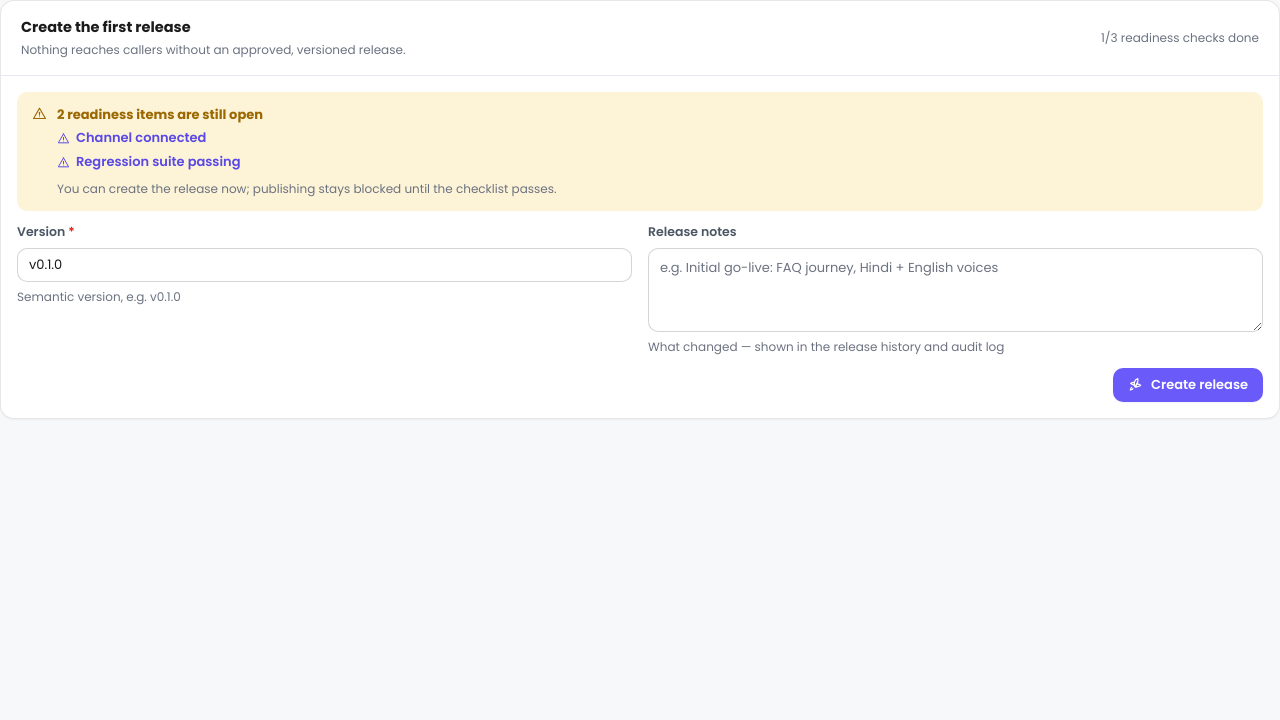
Test: PublishTab — release creation › posts the release and reloads
The width and height of the screenshot is (1280, 720).
expect the text "Create the first release" is shown: met, box [21,17,191,37]
In the text box with placeholder "e.g. Initial go-live: FAQ journey, Hindi + English voices": (956, 290) [648,248,1263,332], type "Go-live pilot"
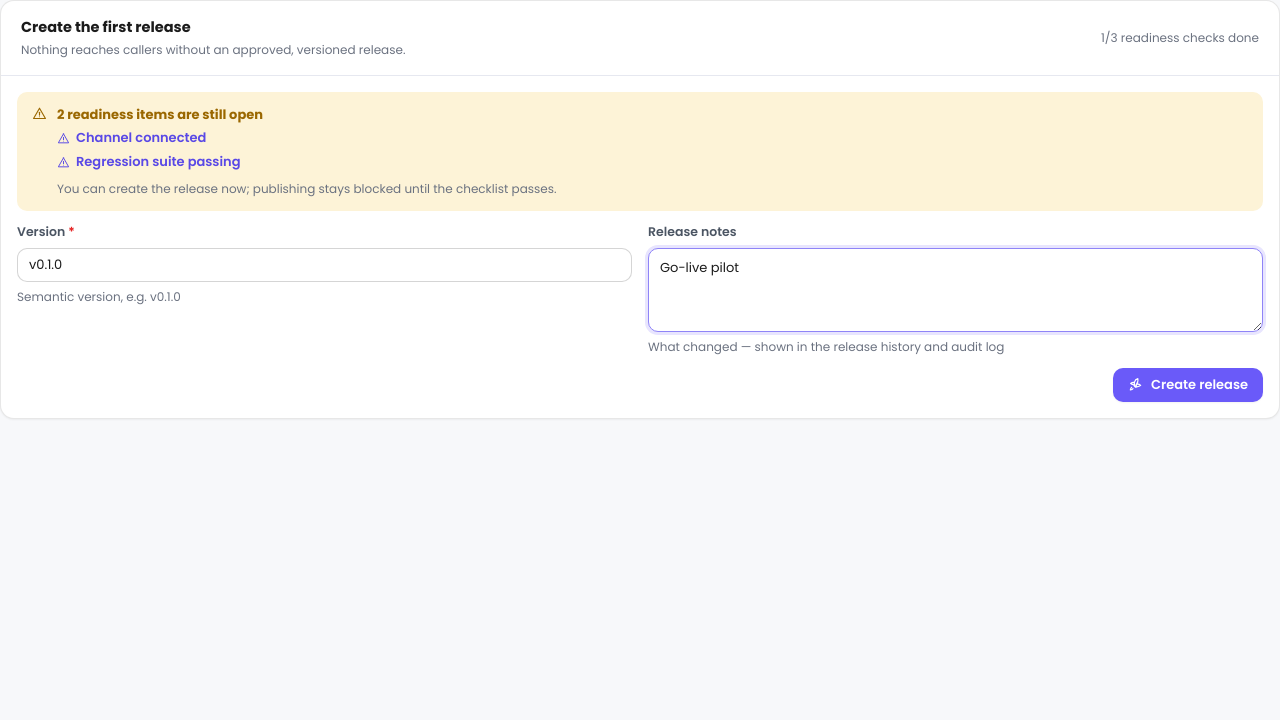
Click the button "Create release": (1188, 385) [1113,368,1263,402]
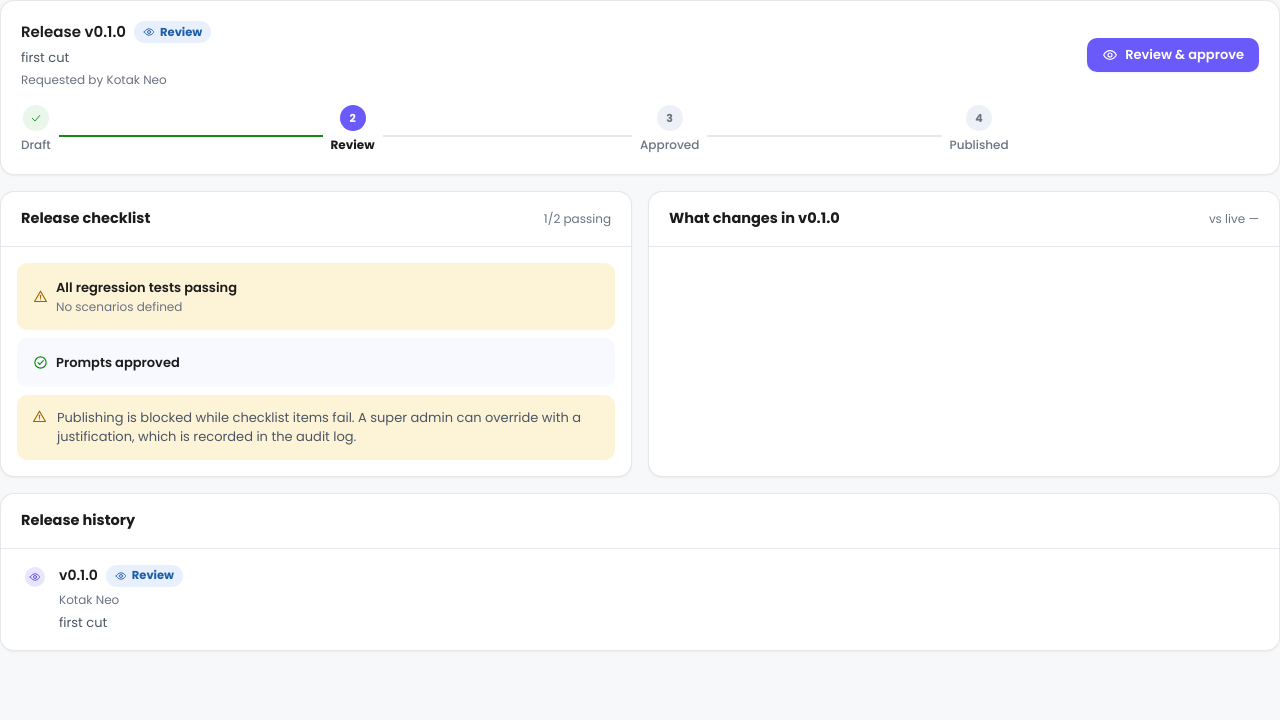
expect the text "Release v0.1.0" is shown: met, box [21,21,126,44]
expect the text "Create the first release" is gone: met
